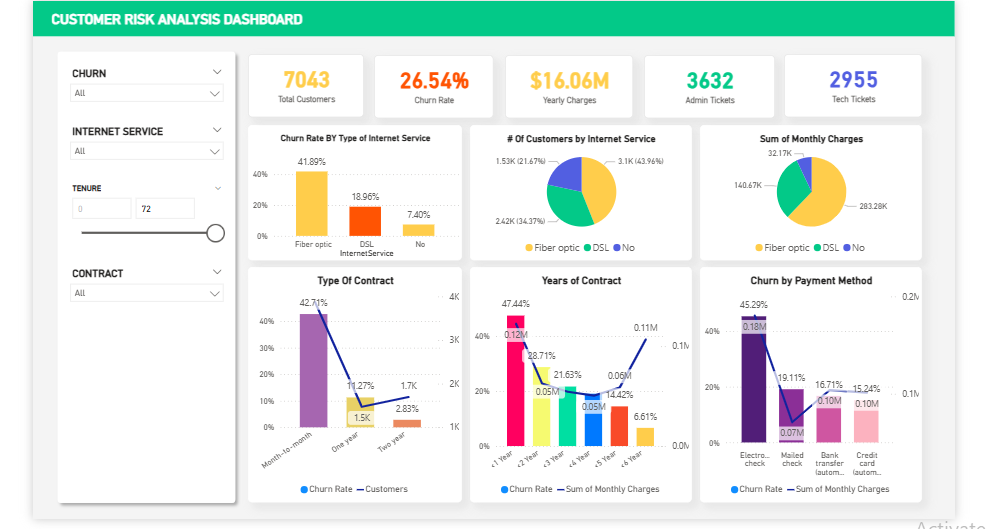

The dashboard page shown, as its layout file describes it:
{"tool":"powerbi","page":{"name":"Customer Risk Analysis","canvas":[1280,720],"ordinal":1},"visuals":[{"type":"shape","box":[0,0,1280,49],"z":0},{"type":"textbox","box":[21,8,438,33],"z":1000},{"type":"shape","box":[25,61,265,645],"z":2000},{"type":"slicer","fields":{"Values":["Churn.Churn"]},"box":[42,82,233,81],"z":3000},{"type":"slicer","fields":{"Values":["Churn.InternetService"]},"box":[42,163,233,81],"z":4000},{"type":"slicer","fields":{"Values":["Churn.tenure"]},"box":[41,244,233,97],"z":5000},{"type":"slicer","fields":{"Values":["Churn.Contract"]},"box":[41,360,233,81],"z":6000},{"type":"card","fields":{"Values":["CountNonNull(01 Churn-Dataset.customerID)"]},"box":[298,74,161,88],"z":7000},{"type":"card","fields":{"Values":["Churn.% Churn Rate"]},"box":[474,75,166,88],"z":8000},{"type":"card","fields":{"Values":["Sum(Churn.TotalCharges)"]},"box":[656,75,178,88],"z":9000},{"type":"card","fields":{"Values":["Sum(Churn.numAdminTickets)"]},"box":[848,75,182,88],"z":10000},{"type":"card","fields":{"Values":["Sum(Churn.numTechTickets)"]},"box":[1043,74,192,88],"z":11000},{"type":"columnChart","title":"Churn Rate BY Type of Internet Service","fields":{"Category":["Churn.InternetService"],"Y":["Churn.% Churn Rate"]},"box":[298,172,297,188],"z":12000},{"type":"pieChart","title":"# Of Customers by Internet Service","fields":{"Category":["Churn.InternetService"],"Y":["CountNonNull(Churn.customerID)"]},"box":[607,172,308,188],"z":13000},{"type":"pieChart","title":"Sum of Monthly Charges","fields":{"Category":["Churn.InternetService"],"Y":["Sum(Churn.MonthlyCharges)"]},"box":[927,172,308,188],"z":14000},{"type":"lineStackedColumnComboChart","title":"Type Of Contract","fields":{"Category":["Churn.Contract"],"Y":["Churn.% Churn Rate"],"Y2":["CountNonNull(Churn.customerID)"]},"box":[298,370,297,327],"z":15000},{"type":"lineStackedColumnComboChart","title":"Years of Contract","fields":{"Category":["Churn.Tenure(in years)"],"Y":["Churn.% Churn Rate"],"Y2":["Sum(Churn.MonthlyCharges)"]},"box":[607,370,308,327],"z":16000},{"type":"lineStackedColumnComboChart","title":"Churn by Payment Method","fields":{"Category":["Churn.PaymentMethod"],"Y":["Churn.% Churn Rate"],"Y2":["Sum(Churn.MonthlyCharges)"]},"box":[928,368,304,320],"z":17000}]}

Visuals, with their boxes on the page's 1280x720 design canvas (x1, y1, x2, y2). These are canvas units, not pixel positions in the 989x529 screenshot, which may show the page scaled, cropped or inside an application window:
shape: rect(0, 0, 1280, 49)
textbox: rect(21, 8, 459, 41)
shape: rect(25, 61, 290, 706)
slicer - Churn.Churn: rect(42, 82, 275, 163)
slicer - Churn.InternetService: rect(42, 163, 275, 244)
slicer - Churn.tenure: rect(41, 244, 274, 341)
slicer - Churn.Contract: rect(41, 360, 274, 441)
card - CountNonNull(01 Churn-Dataset.customerID): rect(298, 74, 459, 162)
card - Churn.% Churn Rate: rect(474, 75, 640, 163)
card - Sum(Churn.TotalCharges): rect(656, 75, 834, 163)
card - Sum(Churn.numAdminTickets): rect(848, 75, 1030, 163)
card - Sum(Churn.numTechTickets): rect(1043, 74, 1235, 162)
"Churn Rate BY Type of Internet Service" columnChart: rect(298, 172, 595, 360)
"# Of Customers by Internet Service" pieChart: rect(607, 172, 915, 360)
"Sum of Monthly Charges" pieChart: rect(927, 172, 1235, 360)
"Type Of Contract" lineStackedColumnComboChart: rect(298, 370, 595, 697)
"Years of Contract" lineStackedColumnComboChart: rect(607, 370, 915, 697)
"Churn by Payment Method" lineStackedColumnComboChart: rect(928, 368, 1232, 688)
